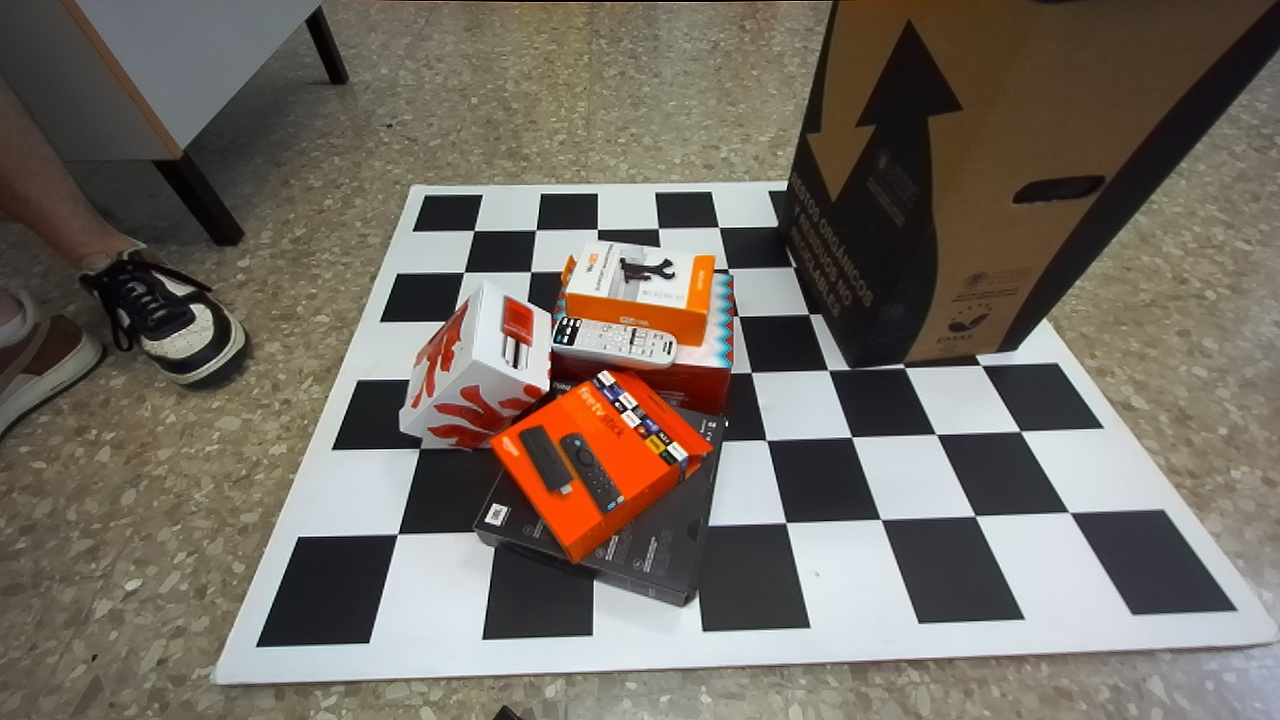caja_busbar: (550, 274, 735, 416)
caja_chasis: (473, 407, 728, 608)
caja_manguera: (491, 371, 711, 561)
caja_pcb: (561, 241, 714, 344)
caja_potencia: (398, 281, 550, 446)
